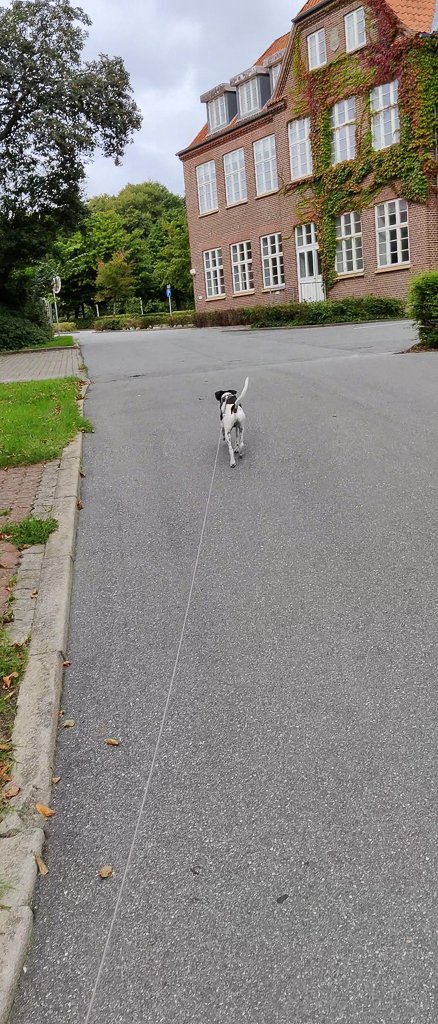Dog: (206, 370, 260, 476)
